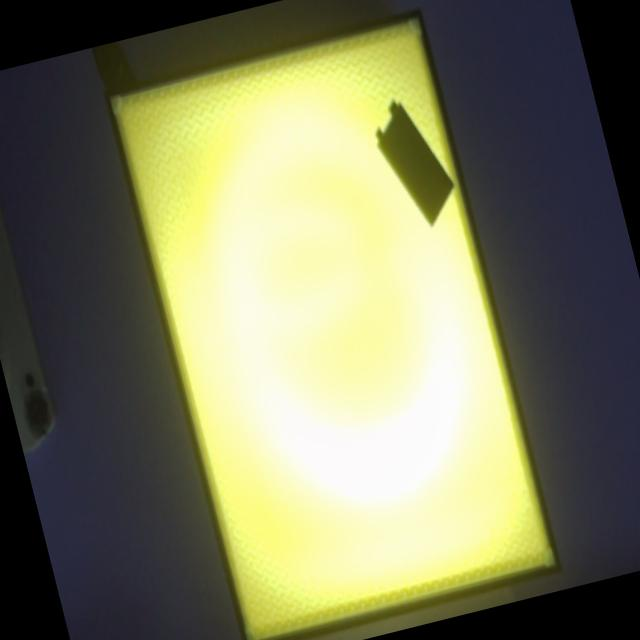bateria: (375, 99, 454, 227)
mesa: (103, 7, 562, 640)
